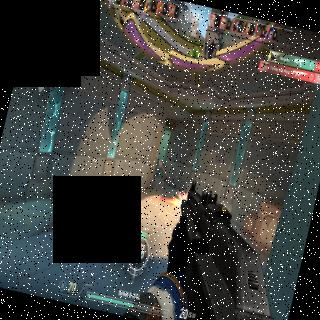ENEMY-BODY: (154, 158, 162, 179)
ENEMY-HEAD: (160, 158, 162, 162)
